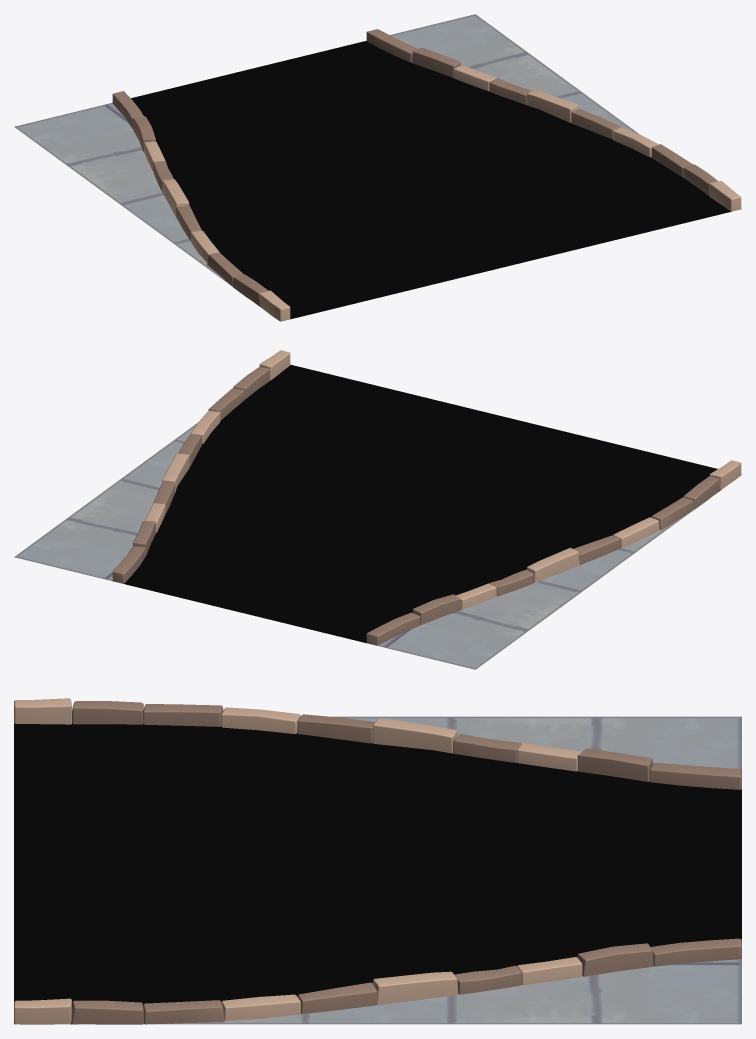
File: CityRoad_2LineNarrowing.fbx
3 renders of one model, top to bottom at view 1: azimuth 30°, elevation 25°; view 2: azimuth 150°, elevation 25°; view 3: azimuth 270°, elevation 25°, orthographic. The views are drawn at different scales.
Visible parts, largest first — view 1: CityRoad_2LineNarrowing_mesh; view 2: CityRoad_2LineNarrowing_mesh; view 3: CityRoad_2LineNarrowing_mesh.
Boxes of the visible parts, left/top/right/bottom form: CityRoad_2LineNarrowing_mesh: left=14, top=14, right=741, bottom=321; CityRoad_2LineNarrowing_mesh: left=14, top=350, right=741, bottom=669; CityRoad_2LineNarrowing_mesh: left=14, top=698, right=741, bottom=1024.
Size of the model in its own units: 1003 by 28.9 by 1000.
